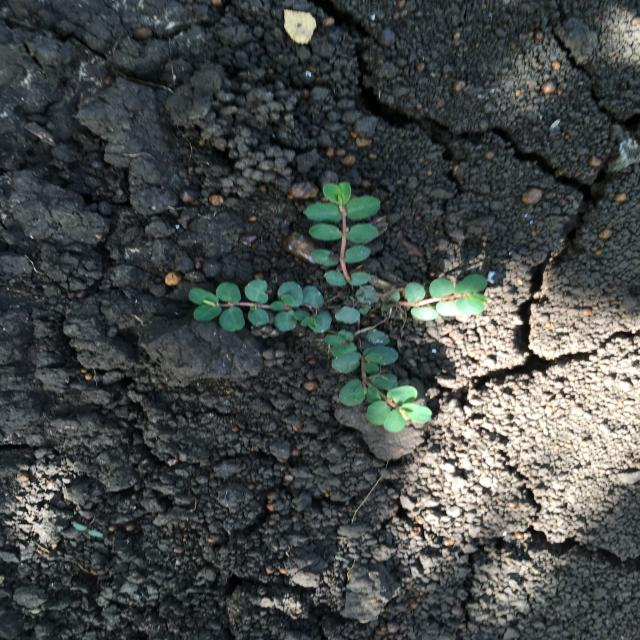SpottedSpurge: (186, 178, 493, 434)
